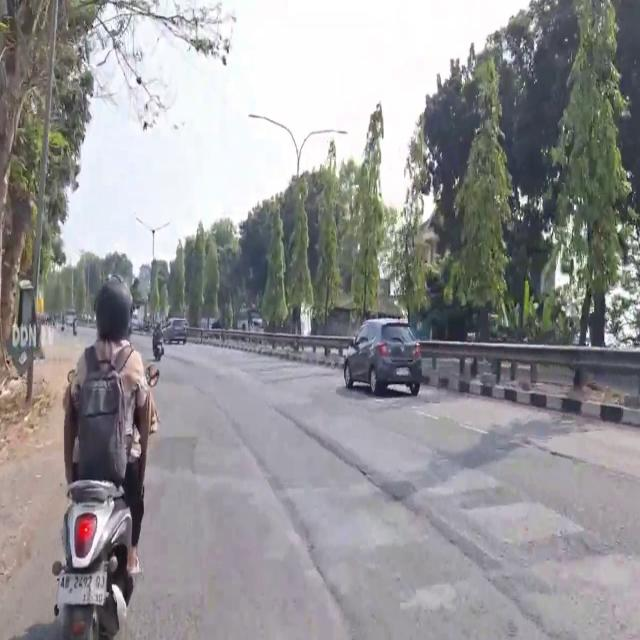WithHelmet: (62, 273, 158, 578), (151, 313, 165, 356)
